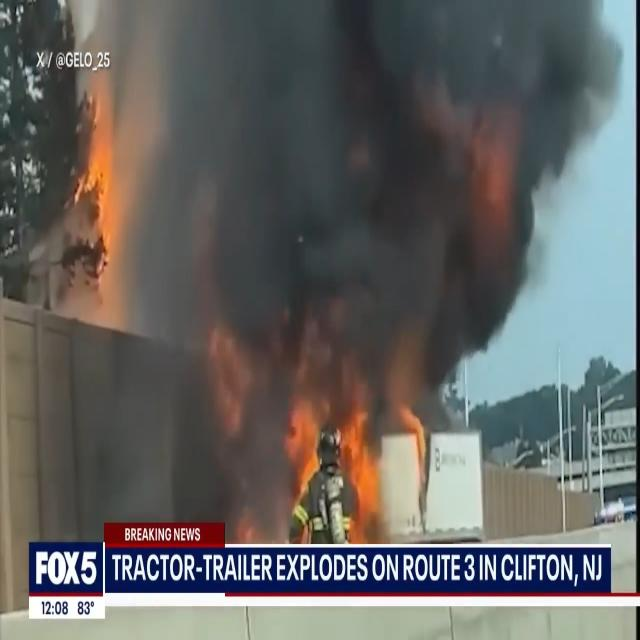fire: (70, 108, 125, 278), (278, 401, 318, 488), (357, 434, 392, 510)
